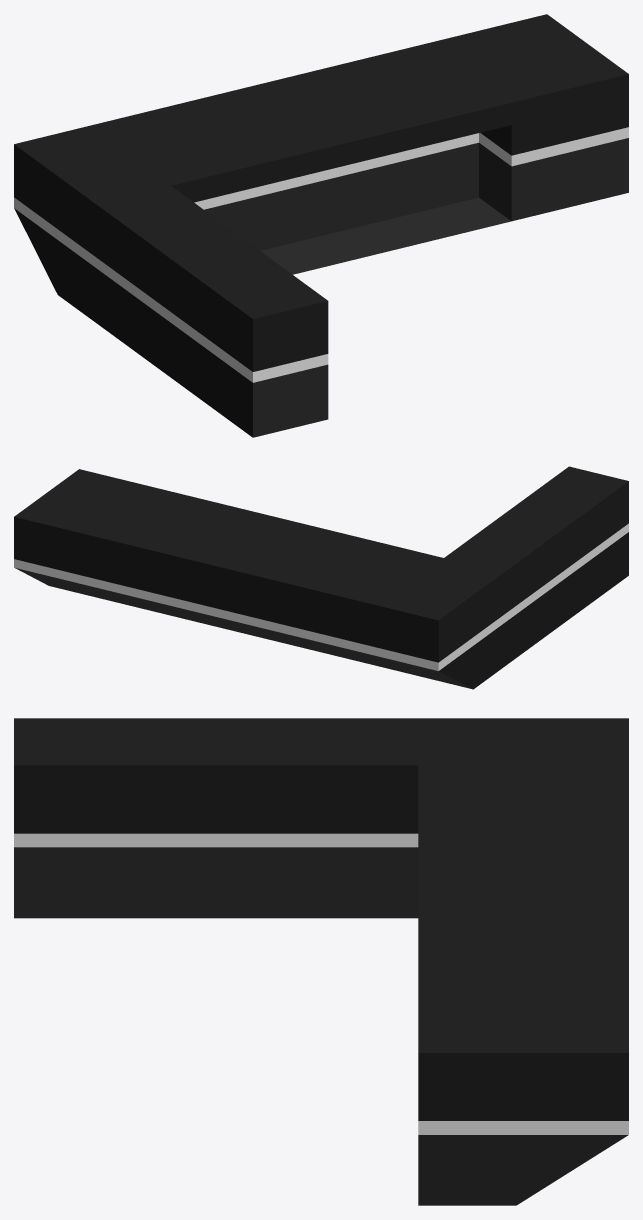
File: escritorio entrada.fbx
3 renders of one model, top to bottom at view 1: azimuth 30°, elevation 25°; view 2: azimuth 150°, elevation 25°; view 3: azimuth 270°, elevation 25°, orthographic. The views are drawn at different scales.
Parts seen in each view (by area): view 1: Escritorio; view 2: Escritorio; view 3: Escritorio.
Boxes of the visible parts, box(x1,y1,x2,y2) form: Escritorio: box(14, 14, 628, 437); Escritorio: box(14, 466, 628, 689); Escritorio: box(14, 718, 628, 1205).
Bounding box in the file's own units: 1879 × 400 × 1459.
Materials: 1 (1 with a texture image).
